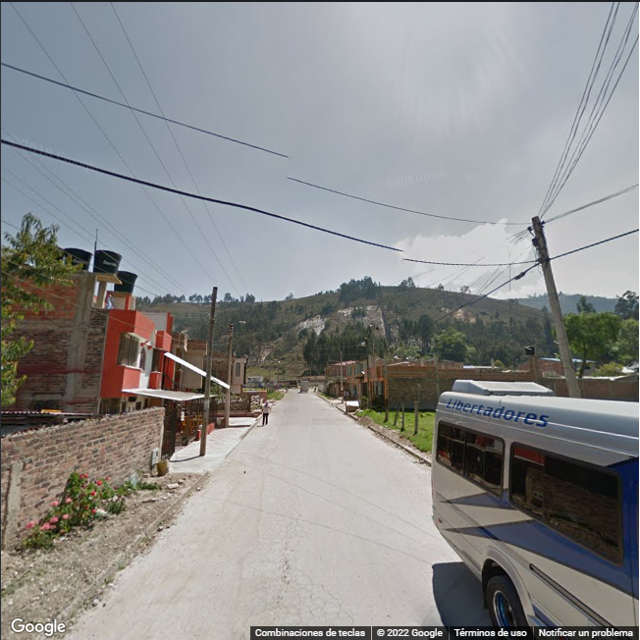D00: (162, 567, 199, 607), (234, 549, 250, 606)
D20: (262, 559, 359, 622)
